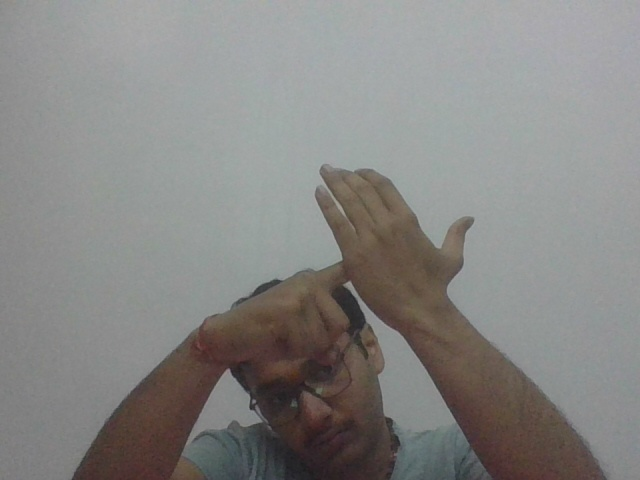R: (271, 167, 471, 344)
